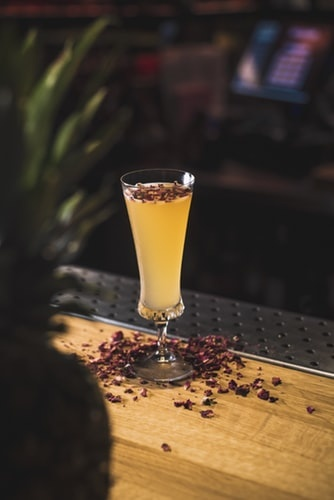whiskey: (122, 167, 196, 368)
